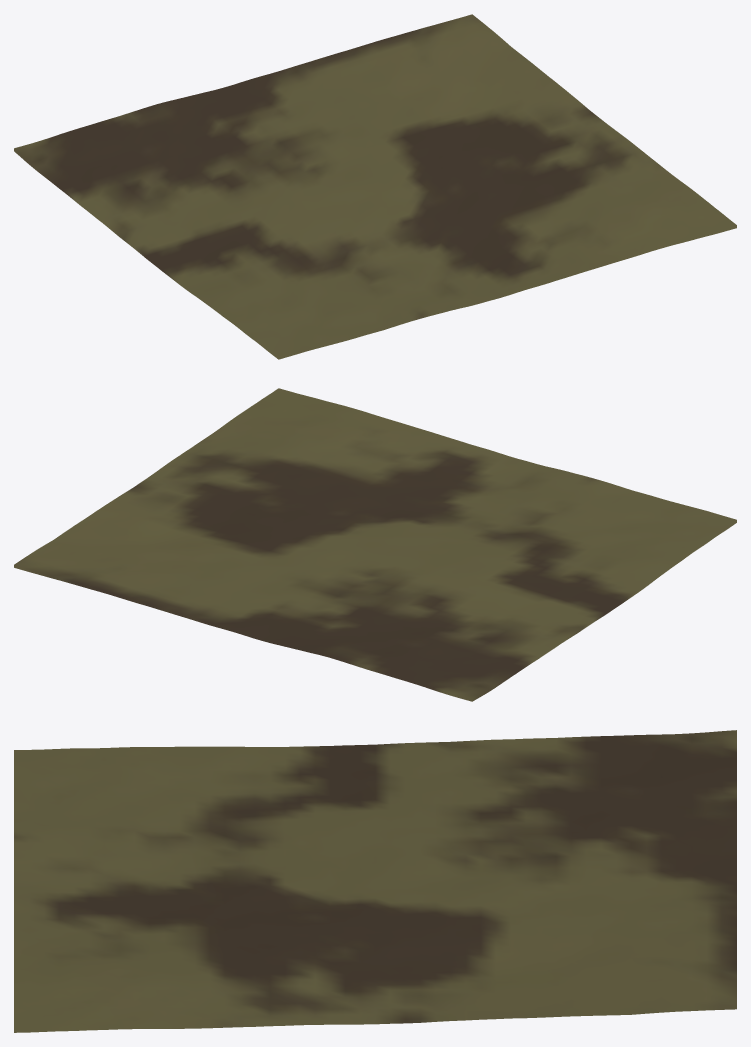
Rendered from land_m_13_00.glb.
3 renders of one model, top to bottom at view 1: azimuth 30°, elevation 25°; view 2: azimuth 150°, elevation 25°; view 3: azimuth 270°, elevation 25°, orthographic. The views are drawn at different scales.
Parts seen in each view (by area): view 1: land_m_13_00; view 2: land_m_13_00; view 3: land_m_13_00.
Part boxes in pixels (box(x1,y1,x2,y2)): land_m_13_00: box(14, 14, 736, 359); land_m_13_00: box(14, 388, 736, 701); land_m_13_00: box(14, 730, 736, 1032).
Bounding box in the file's own units: 960 × 79.8 × 960.
